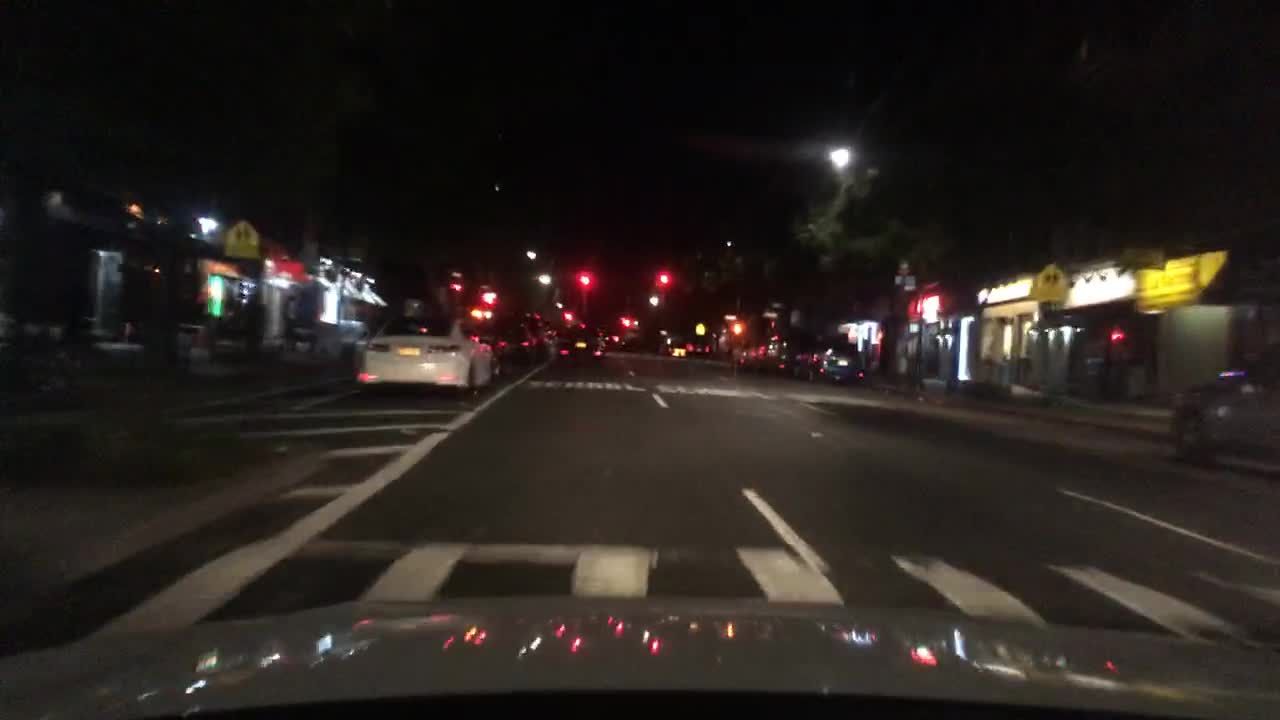car: (1170, 350, 1279, 464), (356, 312, 499, 398), (462, 304, 516, 371), (793, 341, 864, 384), (766, 326, 820, 372), (556, 321, 608, 363), (499, 309, 528, 361), (516, 311, 544, 357), (531, 312, 555, 356), (738, 338, 770, 366), (684, 334, 720, 357), (604, 331, 629, 350), (544, 320, 560, 339), (657, 341, 675, 356), (669, 344, 686, 358)
person: (241, 290, 269, 368)
traffic light: (916, 295, 940, 312), (657, 270, 674, 285), (1106, 327, 1125, 340), (729, 320, 744, 335), (577, 274, 592, 285), (447, 281, 463, 291), (561, 308, 573, 321), (481, 291, 492, 302), (619, 316, 630, 327)
traffic sign: (223, 218, 260, 259), (1033, 263, 1070, 301), (896, 274, 916, 289), (696, 321, 707, 336)
